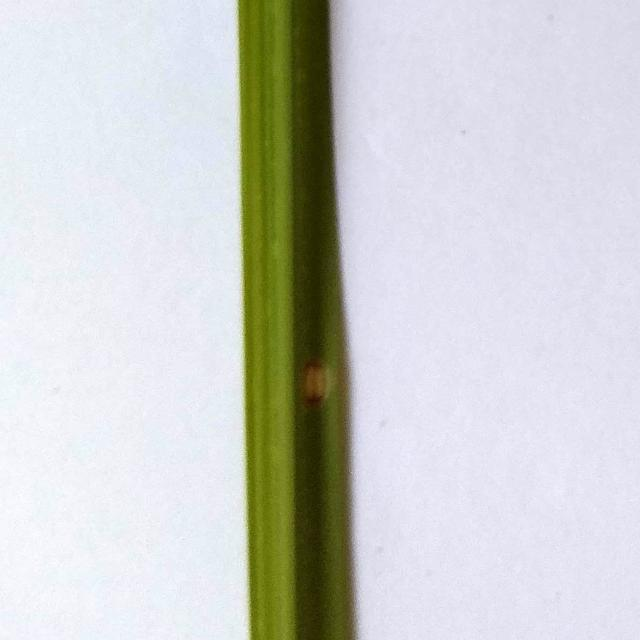Blast: (298, 359, 333, 408)
